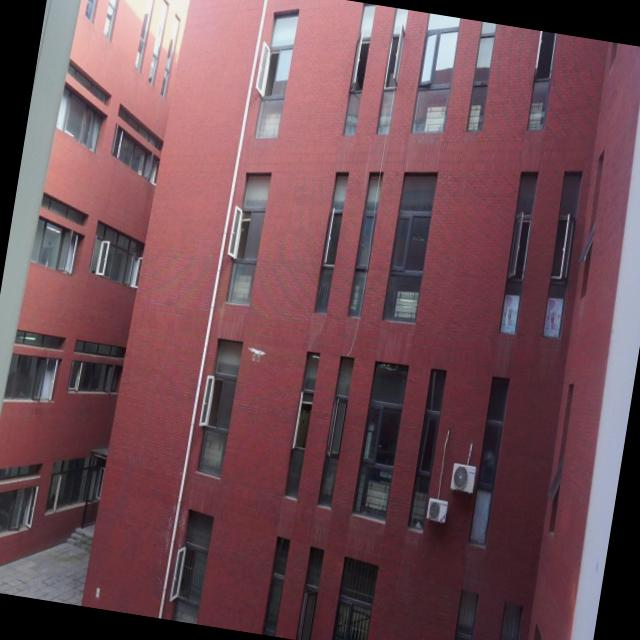drone: (243, 340, 270, 370)
